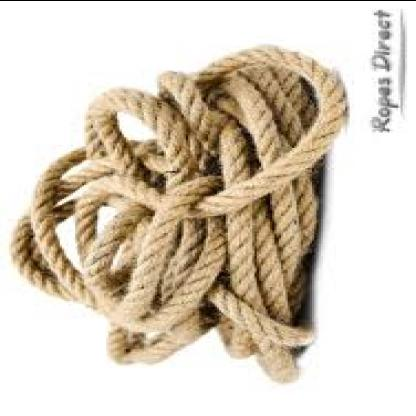Rope: (7, 42, 351, 384)
